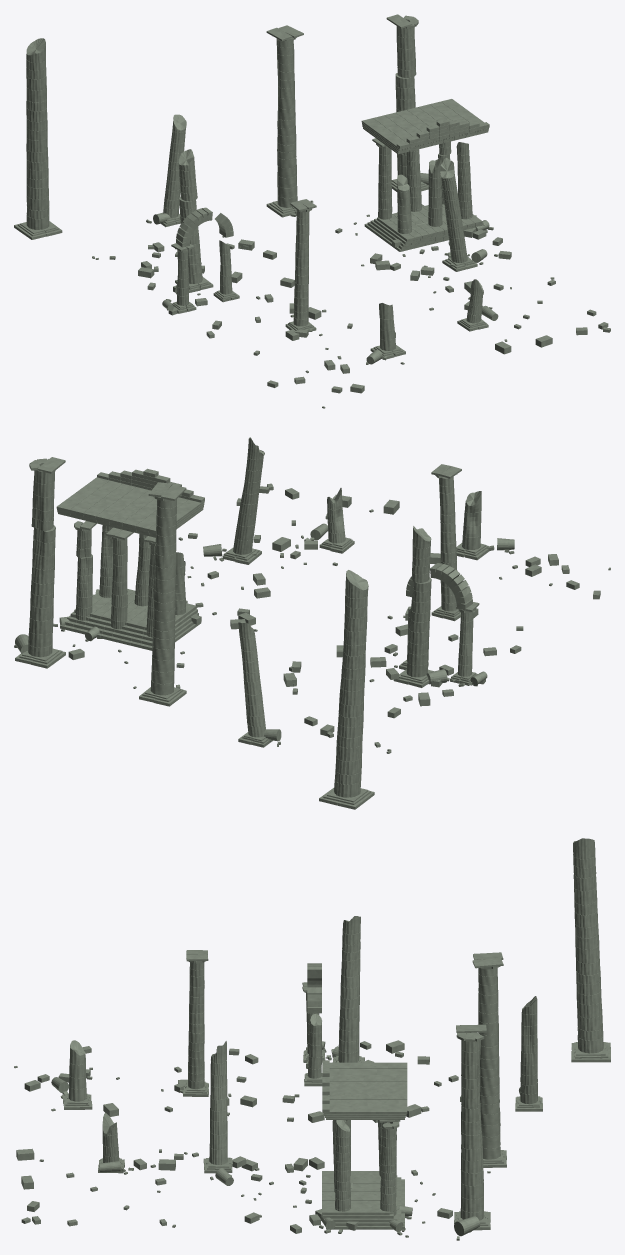
Rendered from ruins-detail.glb.
The picture shows the model from 3 angles, top to bottom: view 1: azimuth 30°, elevation 25°; view 2: azimuth 150°, elevation 25°; view 3: azimuth 270°, elevation 25°; orthographic projection. The views are drawn at different scales.
Visible parts, largest first — view 1: Ruins stone; view 2: Ruins stone; view 3: Ruins stone.
Part boxes in pixels (box(x1,y1,x2,y2)): Ruins stone: box(14, 14, 610, 408); Ruins stone: box(14, 437, 610, 809); Ruins stone: box(14, 838, 610, 1240).
Bounding box in the file's own units: 83.09 × 42.46 × 106.
1 material, 1 textured.
